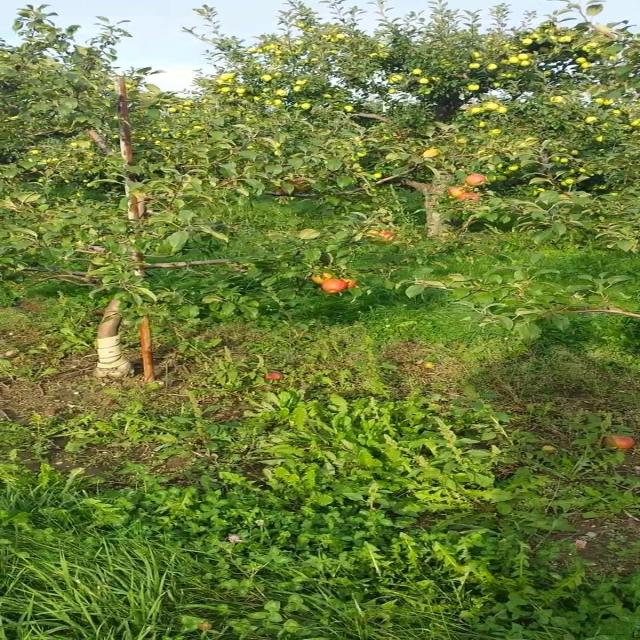apple: (320, 279, 347, 294), (464, 174, 487, 186), (311, 272, 333, 284), (447, 186, 467, 198), (458, 192, 480, 202), (378, 230, 396, 241), (292, 181, 310, 191), (343, 279, 358, 288), (196, 621, 210, 630)
